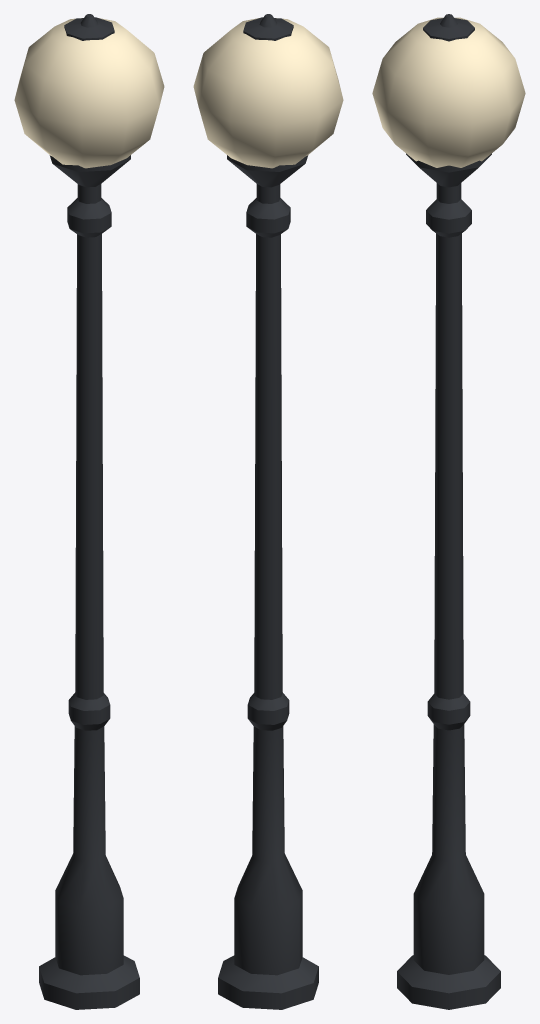
File: lamp_park.glb
3 views of the same model, side by side, from view 1: azimuth 30°, elevation 25°; view 2: azimuth 150°, elevation 25°; view 3: azimuth 270°, elevation 25° (orthographic).
Visible parts, largest first — view 1: lamp_park__mesh; view 2: lamp_park__mesh; view 3: lamp_park__mesh.
Boxes of the visible parts, left/top/right/bottom form: lamp_park__mesh: left=14, top=14, right=164, bottom=1009; lamp_park__mesh: left=193, top=14, right=343, bottom=1009; lamp_park__mesh: left=372, top=14, right=525, bottom=1009.
Bounding box in the file's own units: 0.4755 × 3.5 × 0.5.
Materials: 1 (1 with a texture image).
